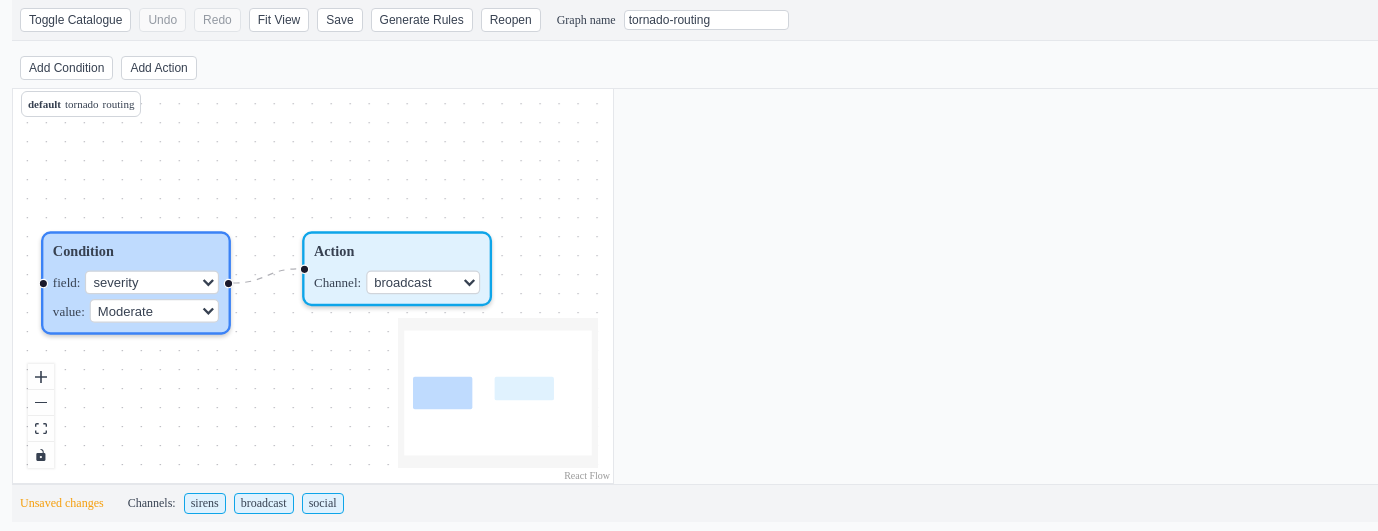
Test: designer against the rule design endpoint › posts the drawn graph and shows the rule count back
Click the button "Generate Rules": {"x": 422, "y": 20} x1=371 y1=8 x2=473 y2=32
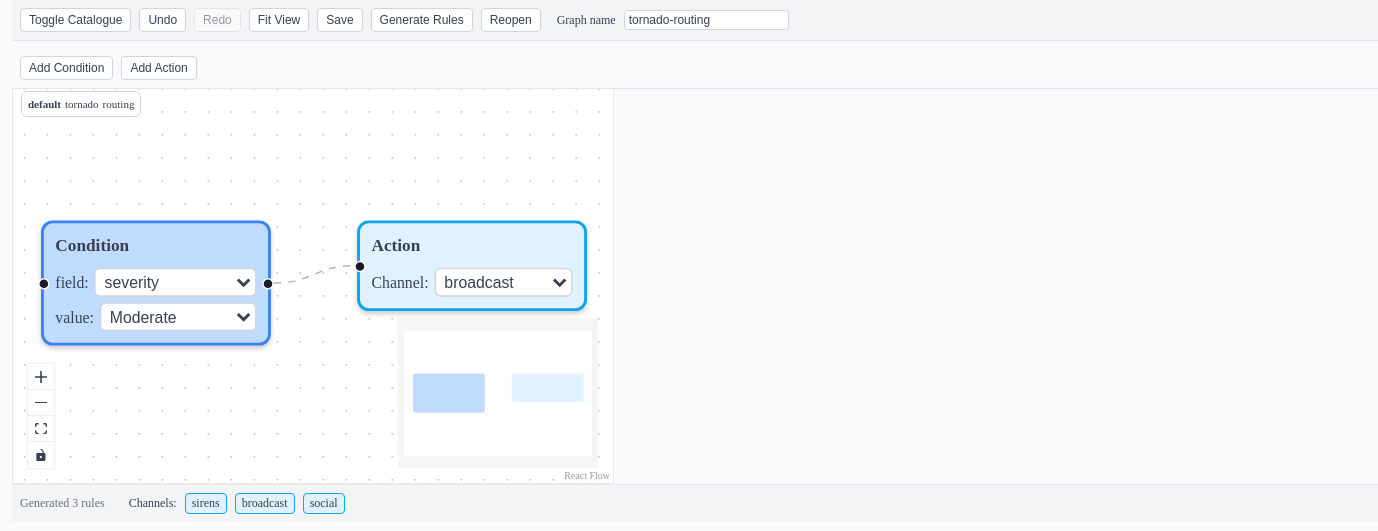
Expected: the text "Generated 3 rules" is shown, x1=20 y1=496 x2=105 y2=511
